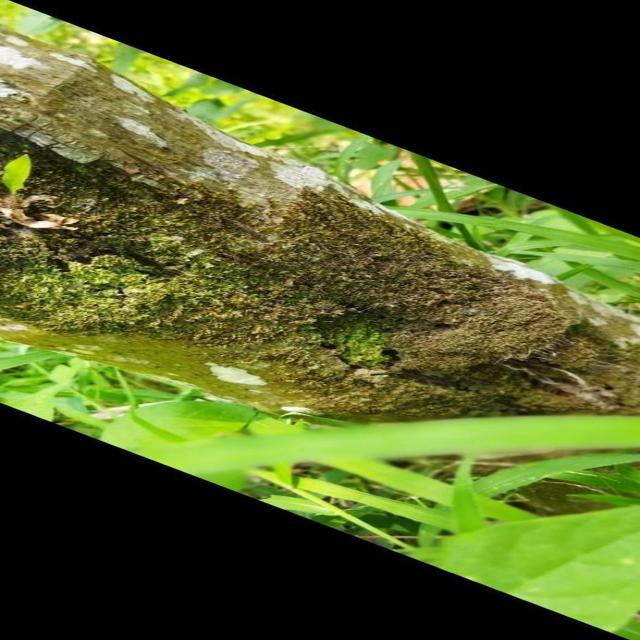Stem_Cracking: (76, 128, 430, 408)
